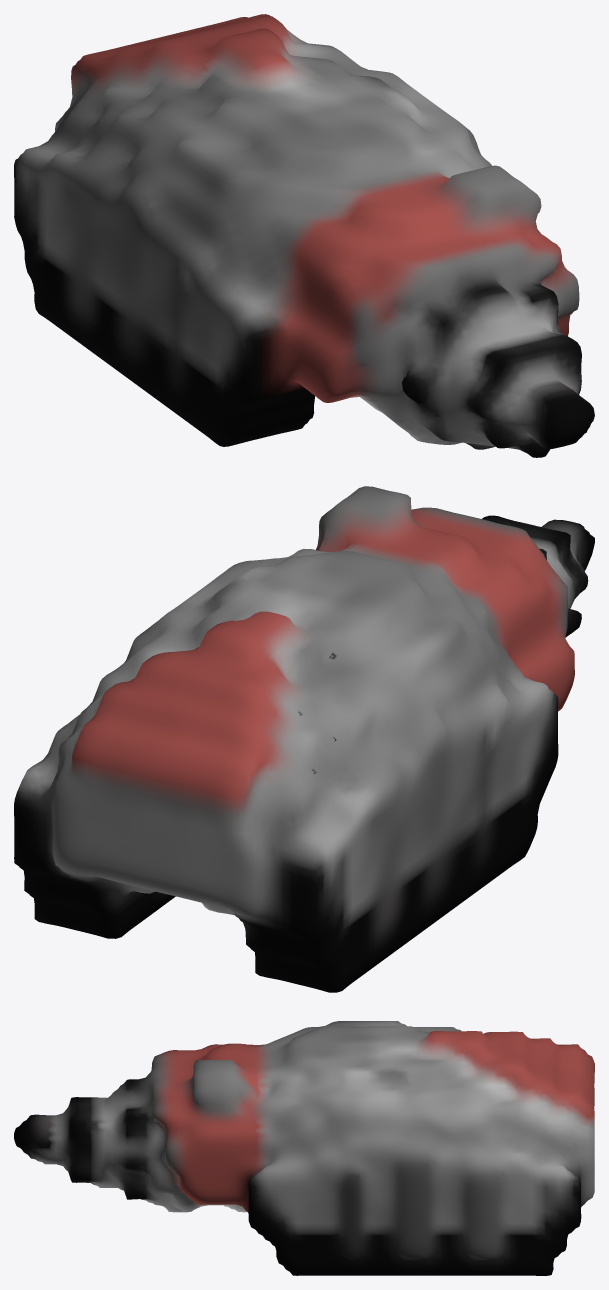
Rendered from sapc.glb.
3 views of the same model, one above another, from view 1: azimuth 30°, elevation 25°; view 2: azimuth 150°, elevation 25°; view 3: azimuth 270°, elevation 25° (orthographic). The views are drawn at different scales.
Parts seen in each view (by area): view 1: sapc; view 2: sapc; view 3: sapc.
Boxes of the visible parts, x1,y1,x2,y2 form: sapc: [14, 14, 594, 457]; sapc: [14, 486, 594, 992]; sapc: [14, 1021, 594, 1275].
Size of the model in its own units: 1.53 by 1.28 by 3.48.
